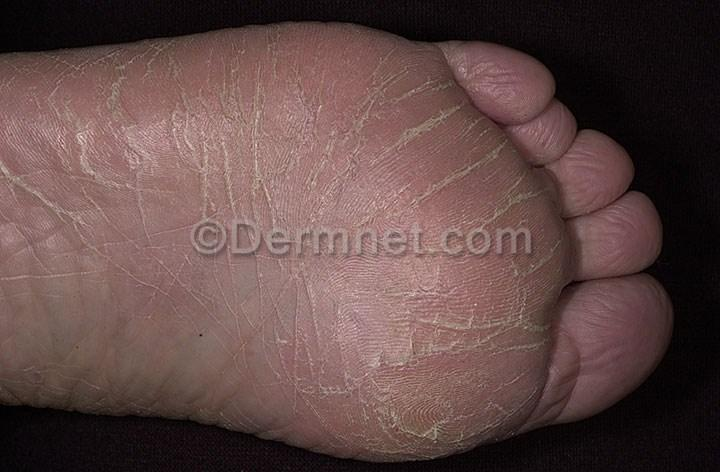liquenificacion 2: (0, 34, 562, 466)
xerosis 3: (0, 28, 566, 460)
